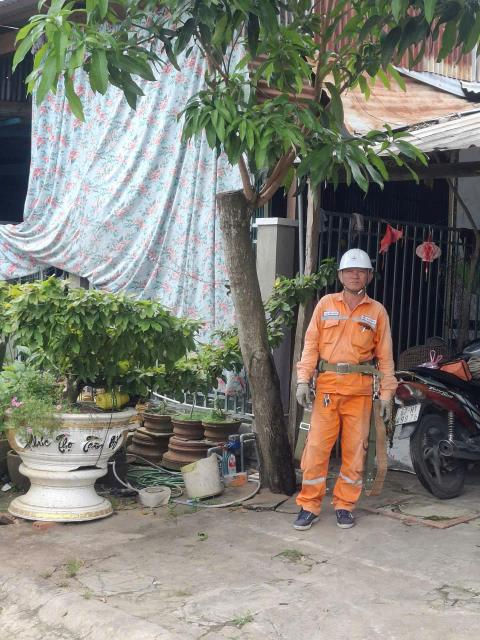gloves: (292, 377, 318, 410), (375, 398, 401, 424)
harness: (301, 350, 379, 378)
helmet: (337, 249, 378, 272)
shoes: (287, 492, 314, 536), (328, 503, 356, 530)
